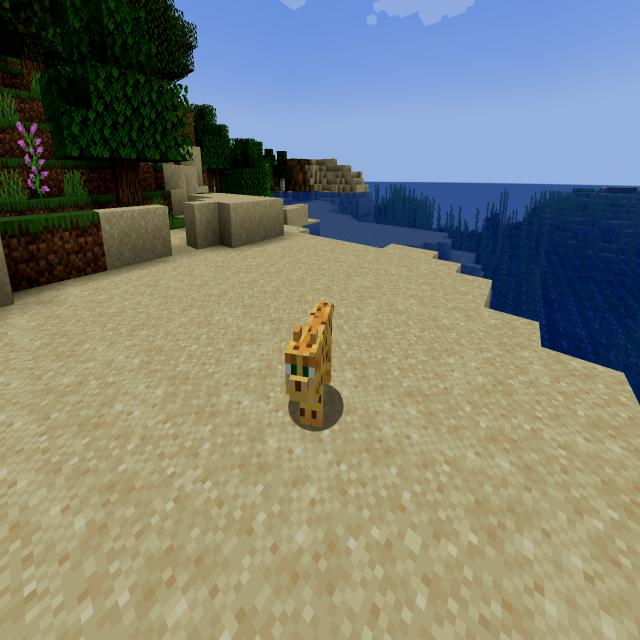Ocelot: (281, 281, 337, 437)
